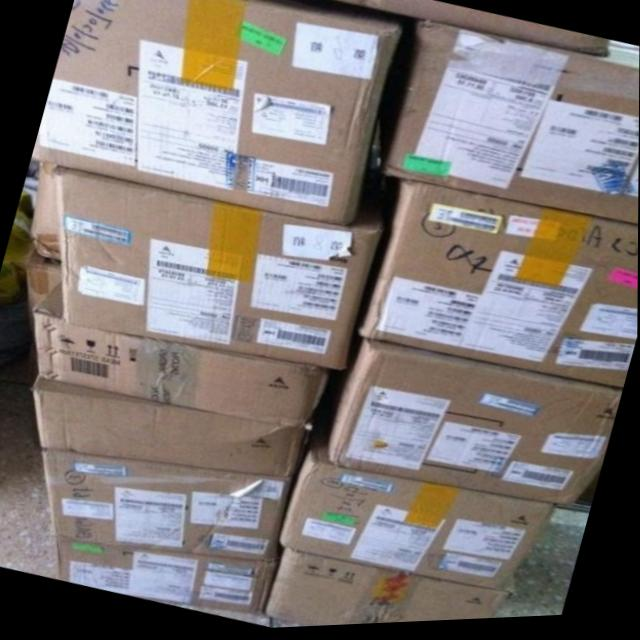box: (31, 0, 406, 228), (56, 168, 380, 376), (356, 184, 639, 393), (383, 22, 640, 229), (329, 338, 621, 512), (276, 415, 557, 593), (34, 279, 328, 429), (33, 372, 302, 481), (43, 451, 289, 559), (263, 548, 516, 628), (55, 537, 275, 614), (333, 0, 609, 56), (28, 165, 60, 259), (26, 258, 60, 312)
